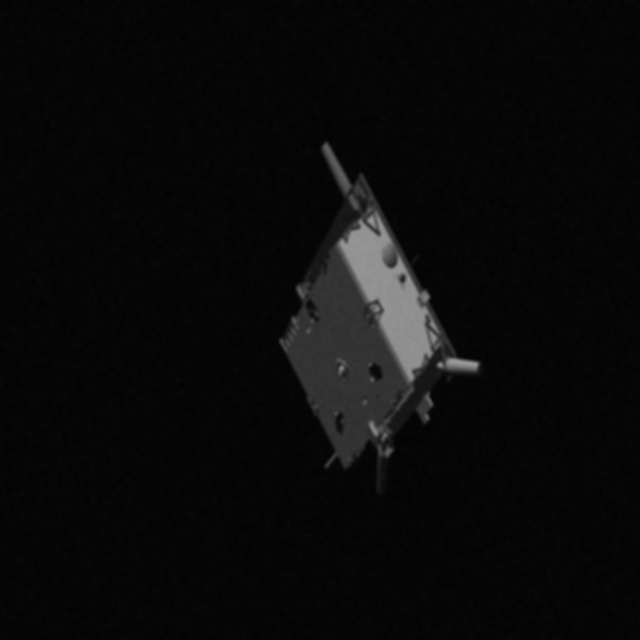satellite: (254, 134, 488, 488)
